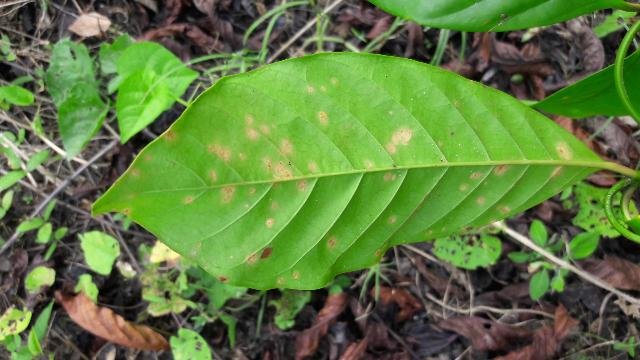rust_level_3: (88, 50, 609, 290)
